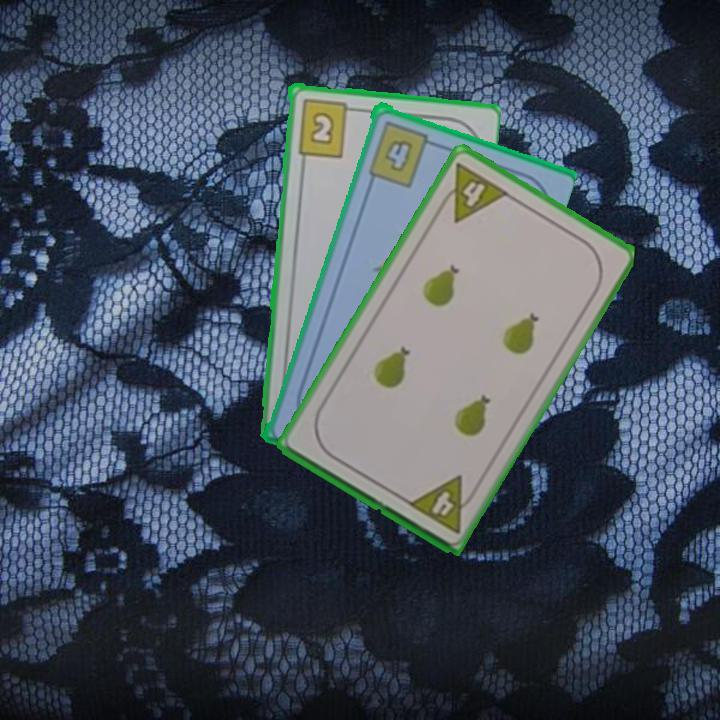2b: (293, 95, 359, 159)
4b: (364, 116, 439, 189)
4p: (433, 159, 512, 226), (404, 471, 481, 536)
